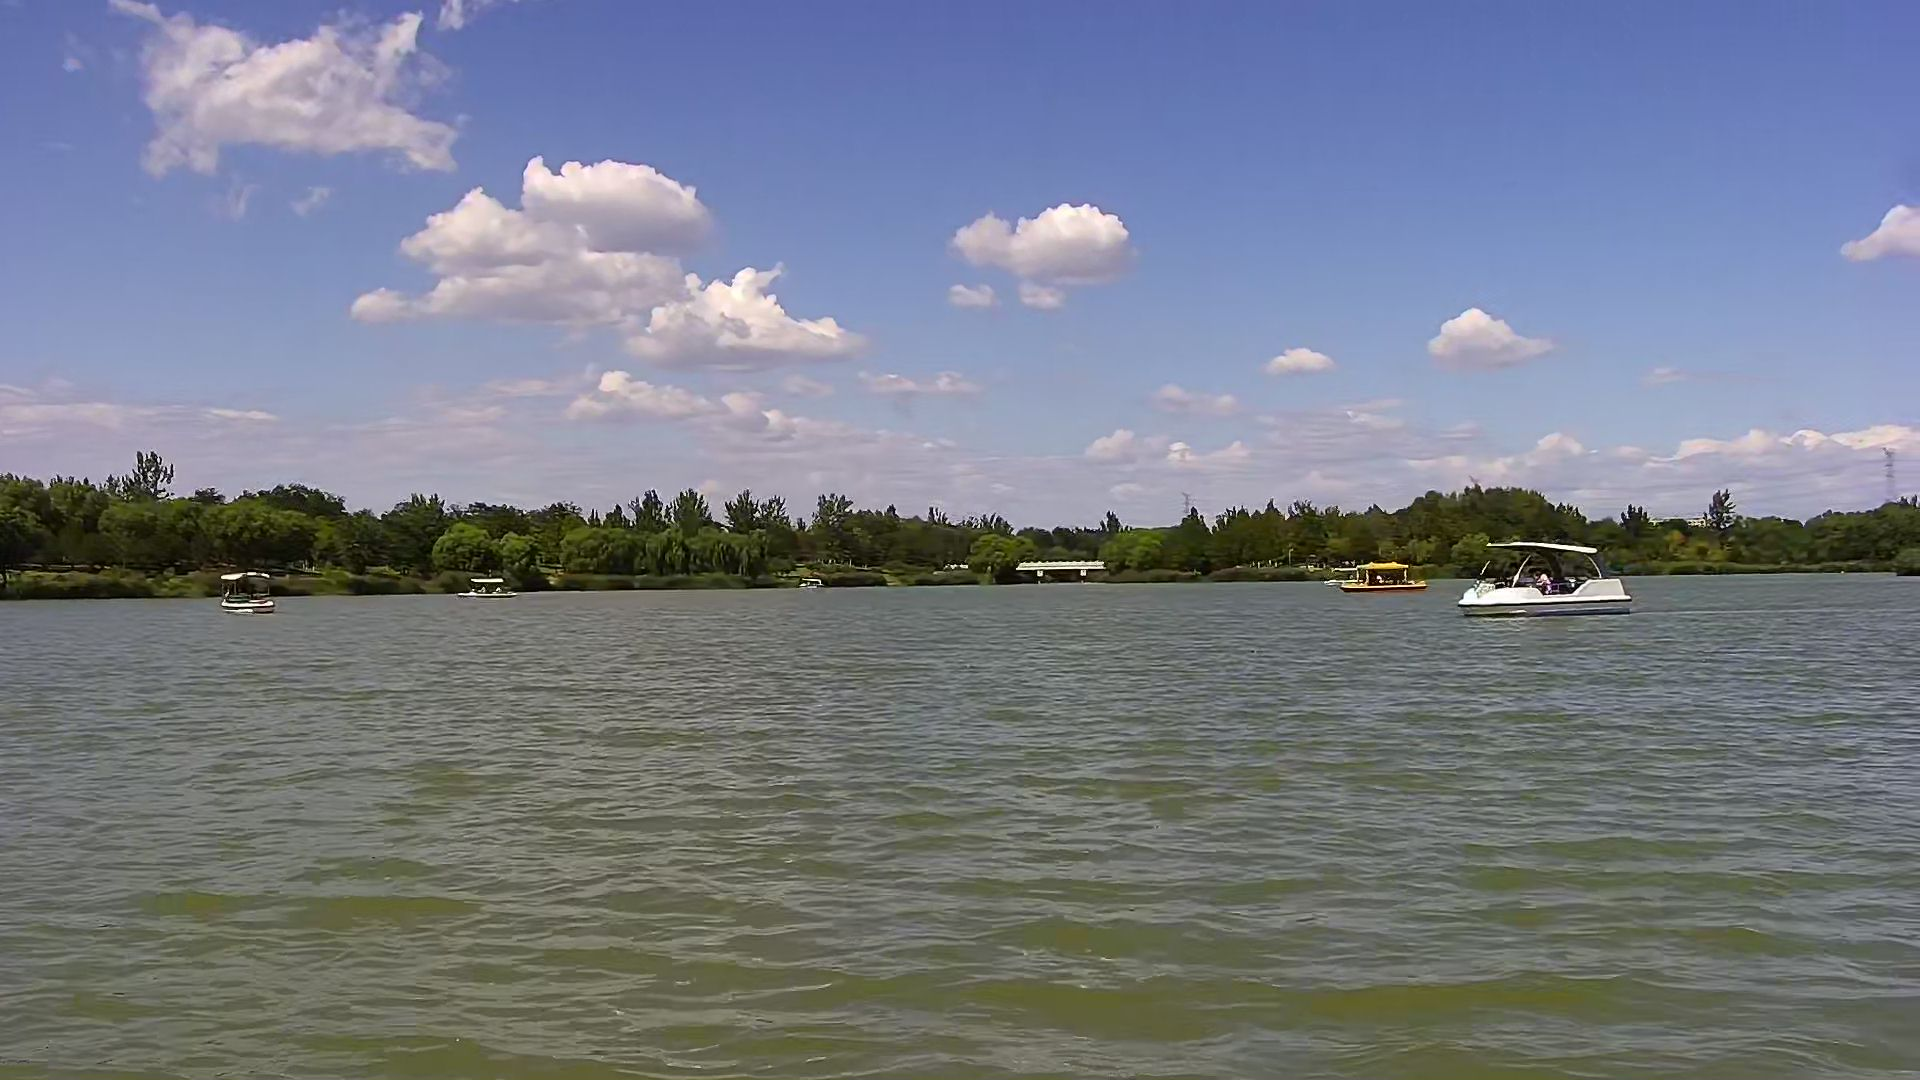boat: (1460, 535, 1633, 618), (218, 564, 270, 617), (1354, 560, 1422, 589), (456, 574, 514, 597), (1327, 564, 1370, 583)
bridge: (1018, 558, 1101, 585)
